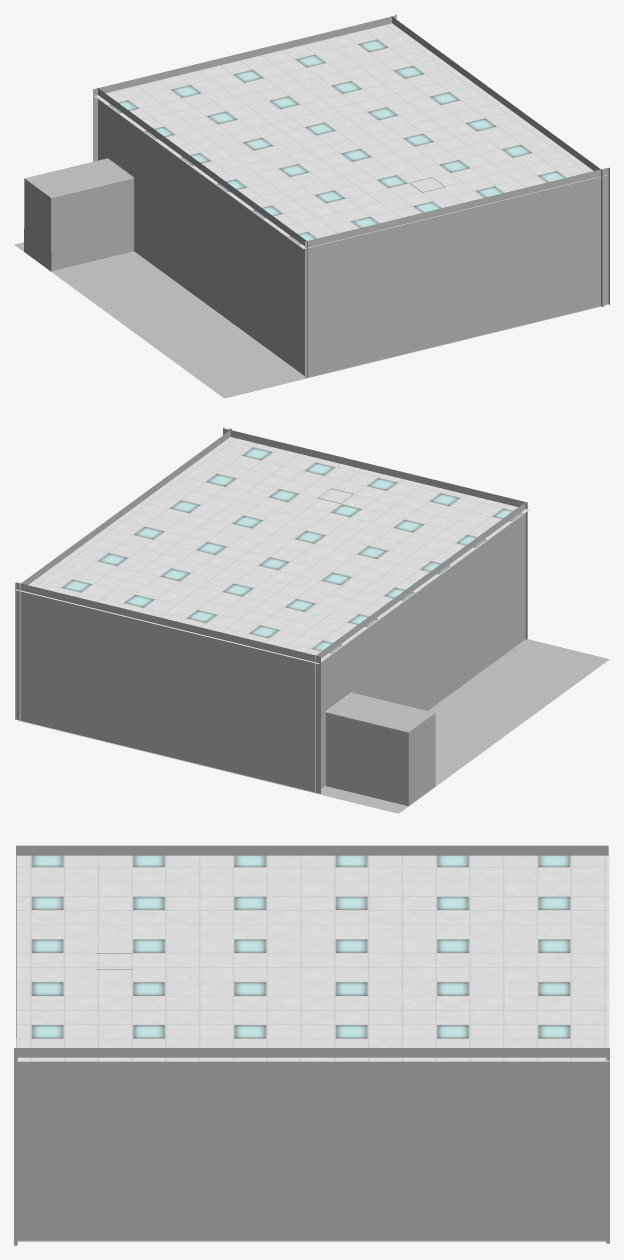
Rendered from FatOffice2.gltf.
3 renders of one model, top to bottom at view 1: azimuth 30°, elevation 25°; view 2: azimuth 150°, elevation 25°; view 3: azimuth 270°, elevation 25°, orthographic. The views are drawn at different scales.
Parts seen in each view (by area): view 1: SM_Roof, SM_BackWall, SM_LeftWall, SM_Floor, SM_FrontWall, SM_RightWall; view 2: SM_Roof, SM_FrontWall, SM_LeftWall, SM_Floor, SM_BackWall, SM_RightWall; view 3: SM_Roof, SM_RightWall, SM_LeftWall, SM_Floor, SM_BackWall, SM_FrontWall.
Part boxes in pixels (x1=…): SM_Roof: x1=94, y1=23, x2=606, y2=249; SM_BackWall: x1=305, y1=167, x2=609, y2=378; SM_LeftWall: x1=24, y1=88, x2=307, y2=377; SM_Floor: x1=14, y1=242, x2=601, y2=398; SM_FrontWall: x1=93, y1=14, x2=396, y2=161; SM_RightWall: x1=391, y1=16, x2=604, y2=306; SM_Roof: x1=14, y1=437, x2=529, y2=663; SM_FrontWall: x1=15, y1=582, x2=320, y2=793; SM_LeftWall: x1=315, y1=502, x2=525, y2=806; SM_Floor: x1=18, y1=639, x2=609, y2=813; SM_BackWall: x1=223, y1=427, x2=527, y2=639; SM_RightWall: x1=19, y1=428, x2=231, y2=721; SM_Roof: x1=16, y1=853, x2=609, y2=1061; SM_RightWall: x1=14, y1=1048, x2=609, y2=1240; SM_LeftWall: x1=16, y1=845, x2=608, y2=1038; SM_Floor: x1=16, y1=1038, x2=606, y2=1241; SM_BackWall: x1=14, y1=1053, x2=17, y2=1245; SM_FrontWall: x1=606, y1=1051, x2=609, y2=1243.
Bounding box in the file's own units: 10.14 × 3.45 × 9.65.
